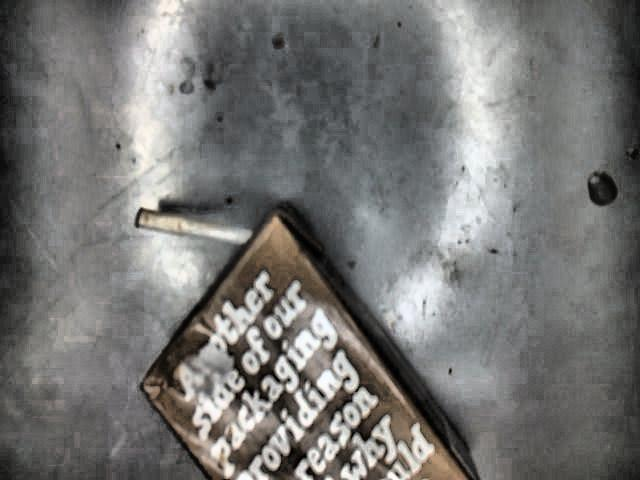Paper: (137, 207, 480, 480)
